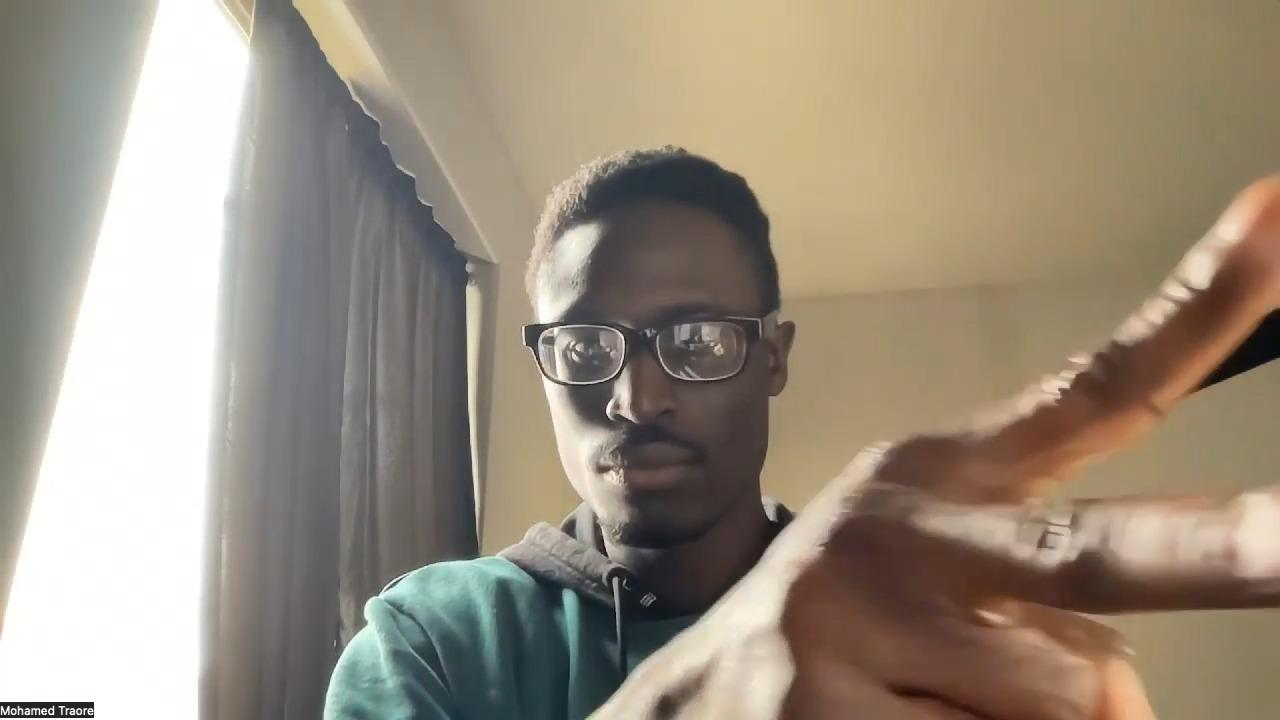Scissors: (632, 173, 1280, 720)
